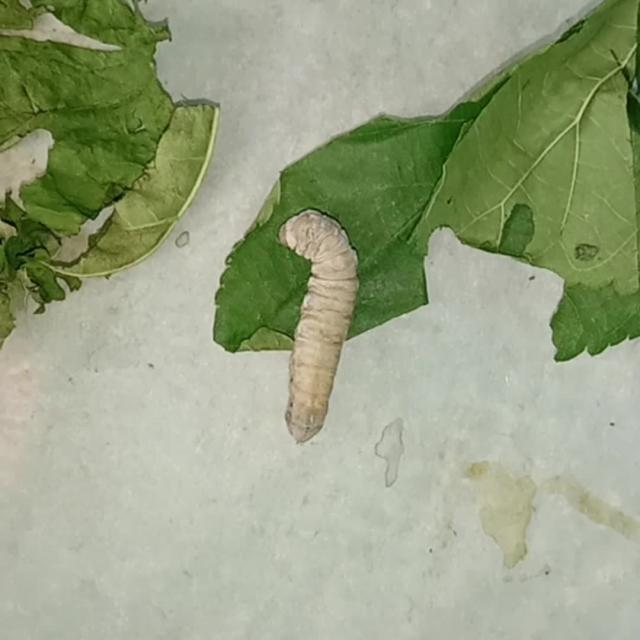Grasserie: (236, 172, 398, 479)
